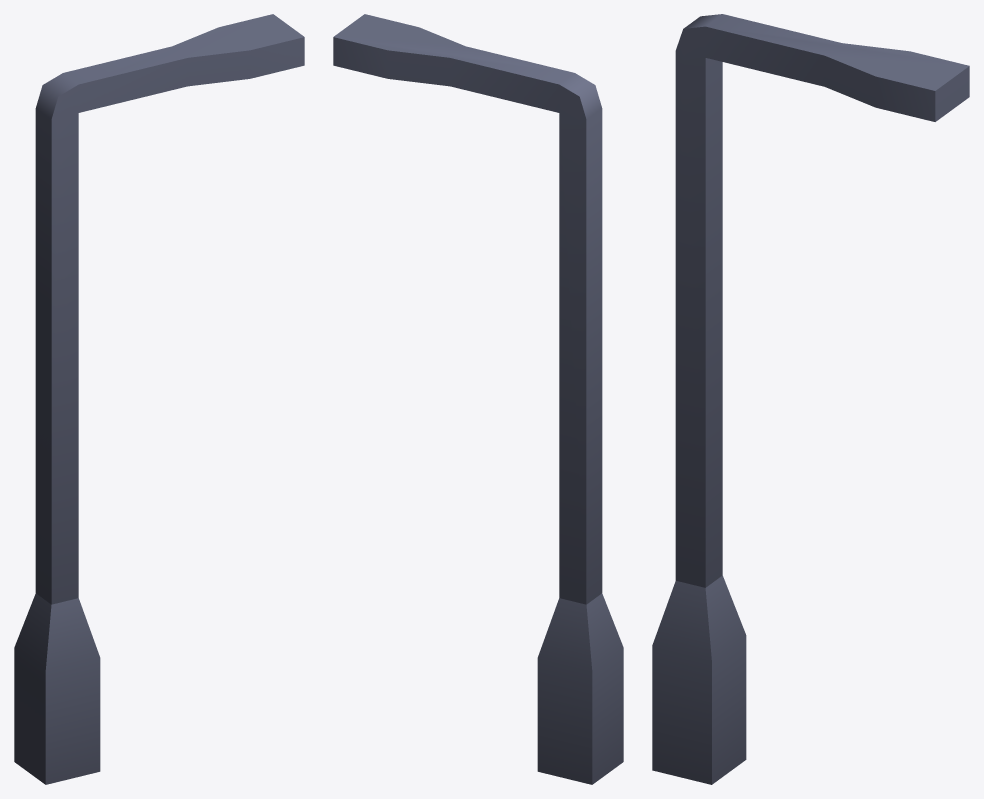
Rendered from lamp_square.glb.
The picture shows the model from 3 angles, left to right: view 1: azimuth 30°, elevation 25°; view 2: azimuth 150°, elevation 25°; view 3: azimuth 330°, elevation 25°; orthographic projection. The views are drawn at different scales.
Parts seen in each view (by area): view 1: mesh; view 2: mesh; view 3: mesh.
Boxes of the visible parts, x1,y1,x2,y2 form: mesh: (14,14,304,784); mesh: (333,14,623,784); mesh: (652,14,969,784).
Bounding box in the file's own units: 2.53 × 6.4 × 0.5333.
